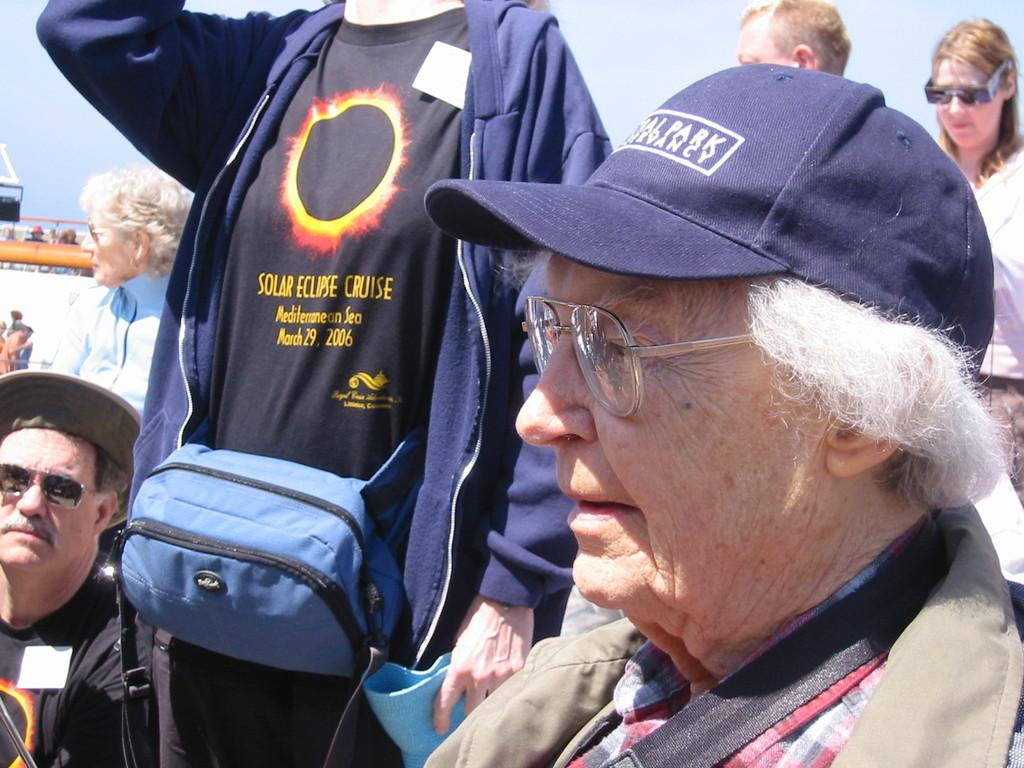Luggage-and-bags: (93, 408, 427, 744)
